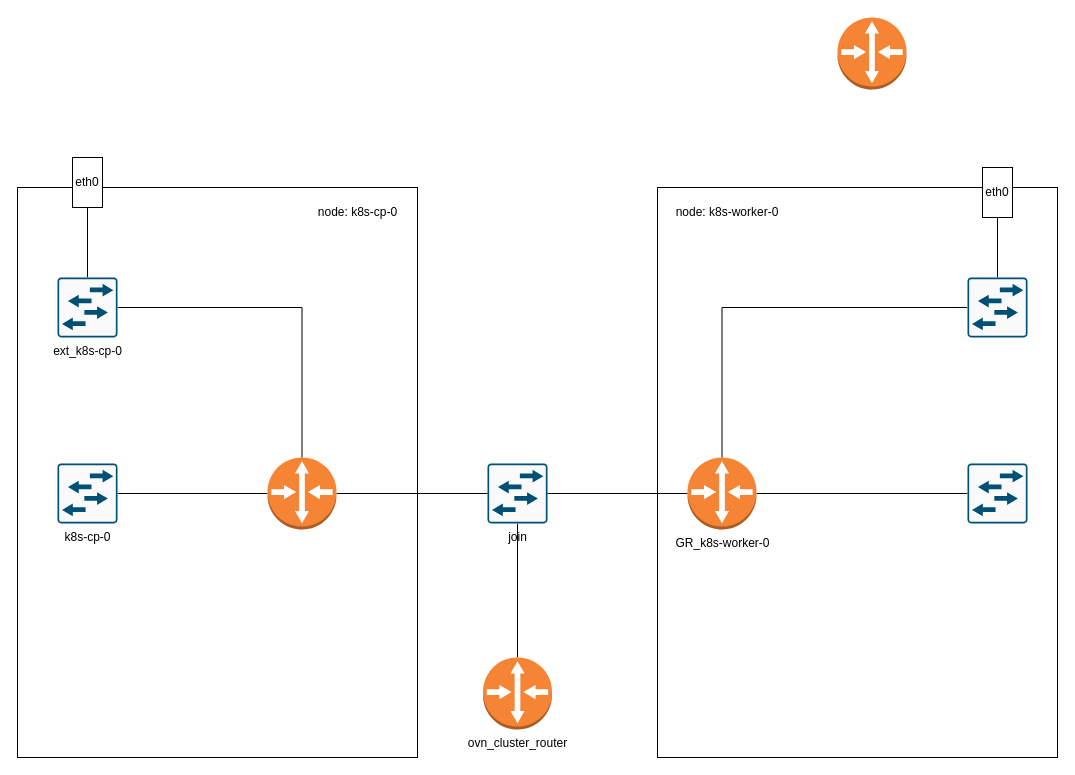
Some shapes in this 1075 by 775 pixel diagram are drawn without their labels. The centre of each missing label's shape, as x and y in pixels:
"ext_k8s-worker-0" belongs at pixel 997 307.
"GR_k8s-cp-0" belongs at pixel 301 493.
"k8s-worker-0" belongs at pixel 997 493.
